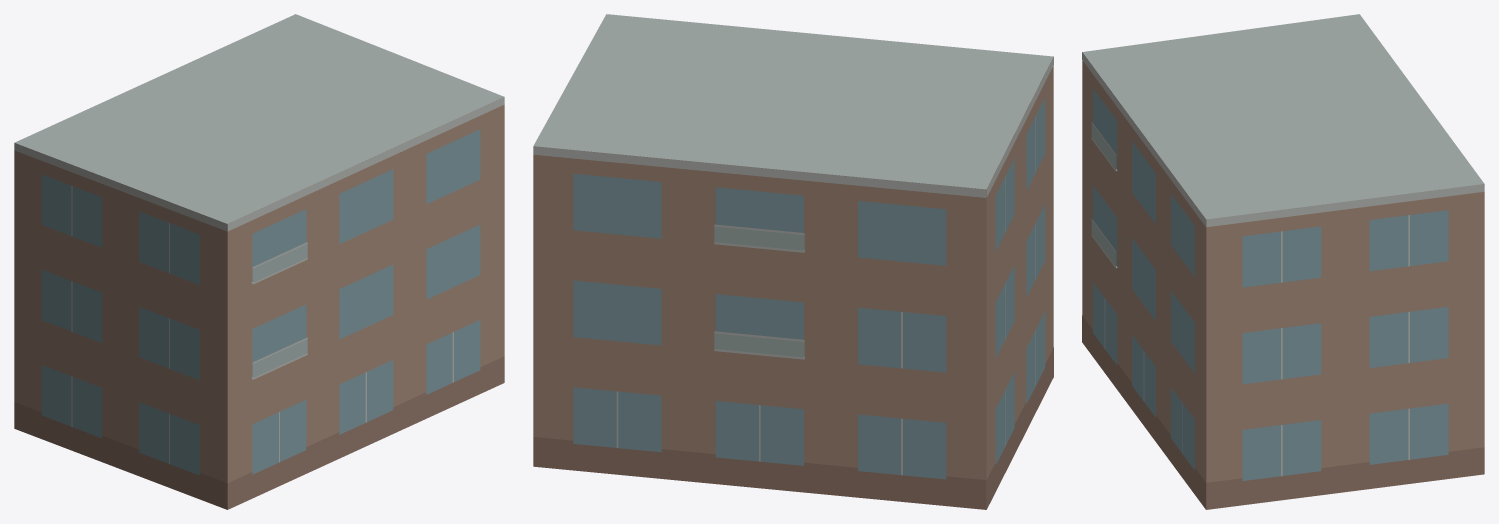
The model's file is survey-upis-32613303.glb.
The picture shows the model from 3 angles, left to right: view 1: azimuth 30°, elevation 25°; view 2: azimuth 150°, elevation 25°; view 3: azimuth 270°, elevation 25°; orthographic projection. The views are drawn at different scales.
Visible parts, largest first — view 1: survey-upis-32613303.tmp; view 2: survey-upis-32613303.tmp; view 3: survey-upis-32613303.tmp.
Boxes of the visible parts, bbox=[...] form: survey-upis-32613303.tmp: bbox=[14, 14, 504, 509]; survey-upis-32613303.tmp: bbox=[533, 14, 1053, 509]; survey-upis-32613303.tmp: bbox=[1082, 14, 1484, 509].
Size of the model in its own units: 13.9 by 9.15 by 11.5.
